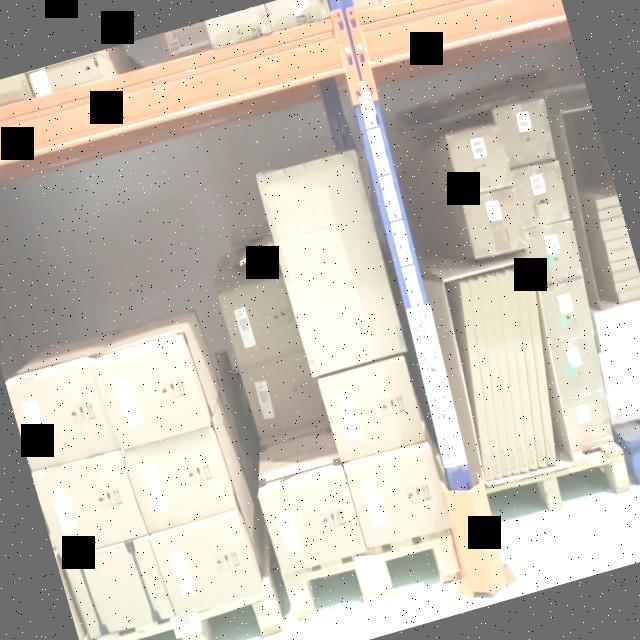box: (256, 149, 407, 378), (92, 337, 208, 448), (5, 360, 116, 476), (254, 464, 368, 576), (32, 452, 146, 558), (124, 428, 237, 530), (65, 535, 172, 640), (156, 515, 264, 618), (345, 444, 449, 549), (319, 358, 424, 460), (458, 279, 496, 482), (468, 277, 503, 479), (487, 276, 521, 475), (477, 277, 510, 475), (497, 273, 529, 474), (524, 264, 556, 462), (508, 270, 539, 470), (517, 269, 546, 467), (461, 184, 529, 260), (446, 122, 514, 196), (492, 97, 557, 171), (511, 158, 570, 225), (539, 279, 597, 344), (524, 222, 582, 284), (550, 335, 603, 399), (563, 389, 614, 451), (594, 301, 640, 353), (599, 338, 640, 386), (607, 378, 640, 423)
